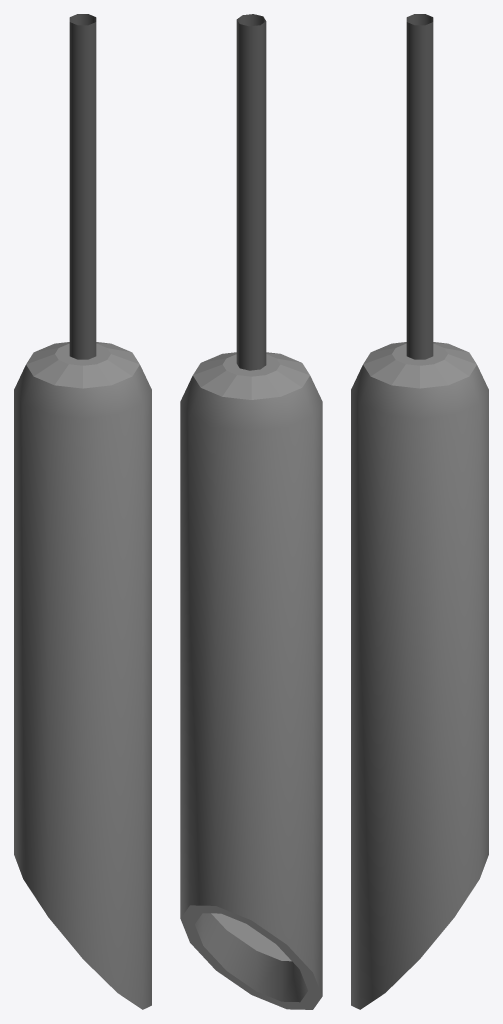
Rendered from Ceiling Lamp 1 A.fbx.
The picture shows the model from 3 angles, left to right: view 1: azimuth 90°, elevation 25°; view 2: azimuth 150°, elevation 25°; view 3: azimuth 270°, elevation 25°; orthographic projection. The views are drawn at different scales.
Parts seen in each view (by area): view 1: Ceiling Lamp 1 A; view 2: Ceiling Lamp 1 A; view 3: Ceiling Lamp 1 A.
Part boxes in pixels (bbox=[...]): Ceiling Lamp 1 A: bbox=[14, 14, 151, 1009]; Ceiling Lamp 1 A: bbox=[180, 14, 322, 1009]; Ceiling Lamp 1 A: bbox=[351, 14, 488, 1009].
Size of the model in its own units: 4 by 31.53 by 4.
